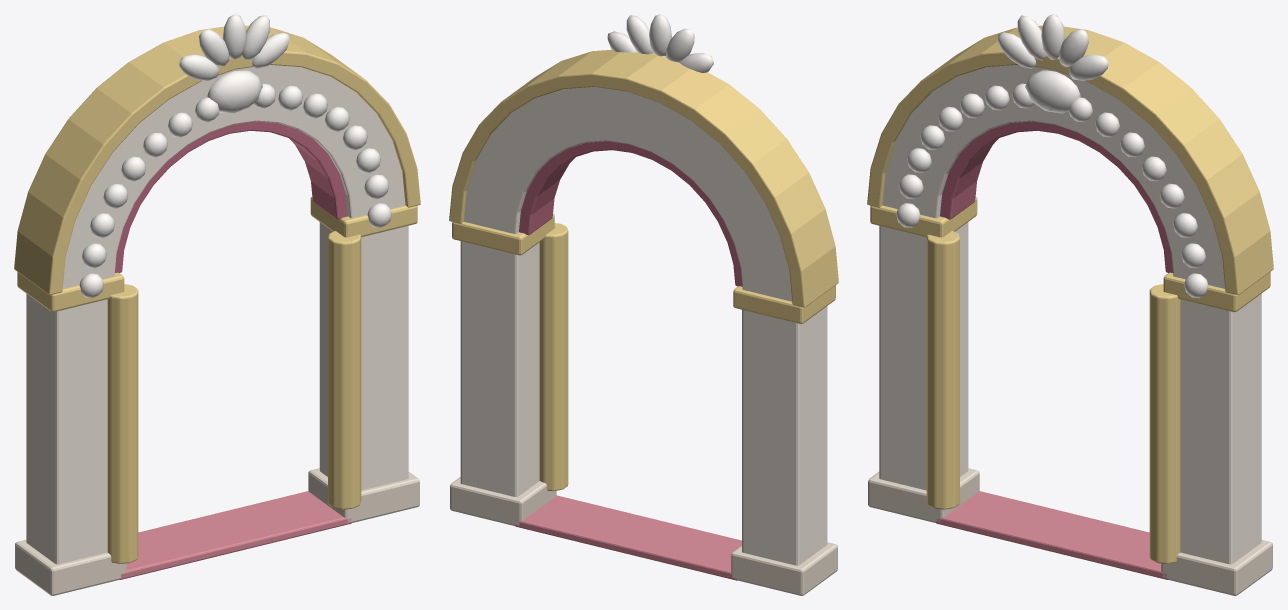
The model's file is opera_grand_arch.glb.
3 renders of one model, left to right at view 1: azimuth 30°, elevation 25°; view 2: azimuth 150°, elevation 25°; view 3: azimuth 330°, elevation 25°, orthographic. The views are drawn at different scales.
Parts seen in each view (by area): view 1: opera_grand_arch.001; view 2: opera_grand_arch.001; view 3: opera_grand_arch.001.
Boxes of the visible parts, <box> form: opera_grand_arch.001: <box>14,14,420,595</box>; opera_grand_arch.001: <box>449,14,838,595</box>; opera_grand_arch.001: <box>867,14,1273,595</box>.
Bounding box in the file's own units: 13.69 × 18.9 × 2.78.
